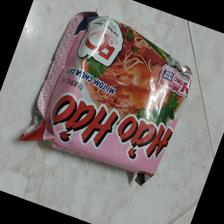Haohao: (19, 9, 193, 193)
